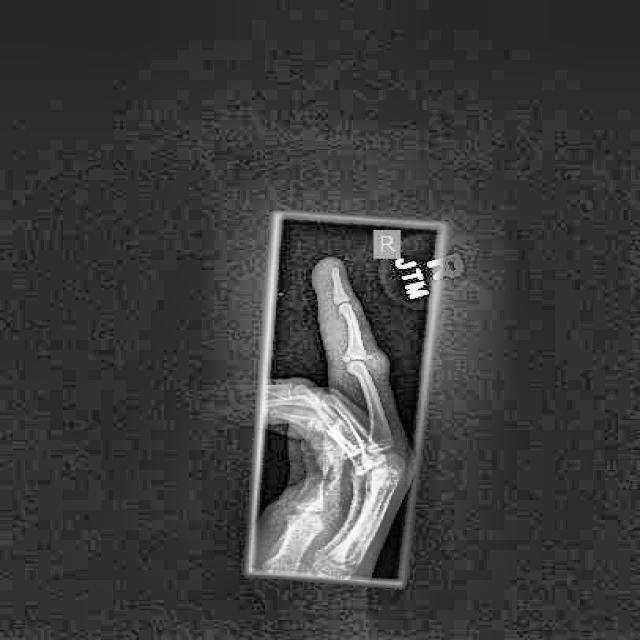fingers positive: (333, 342, 393, 367)
